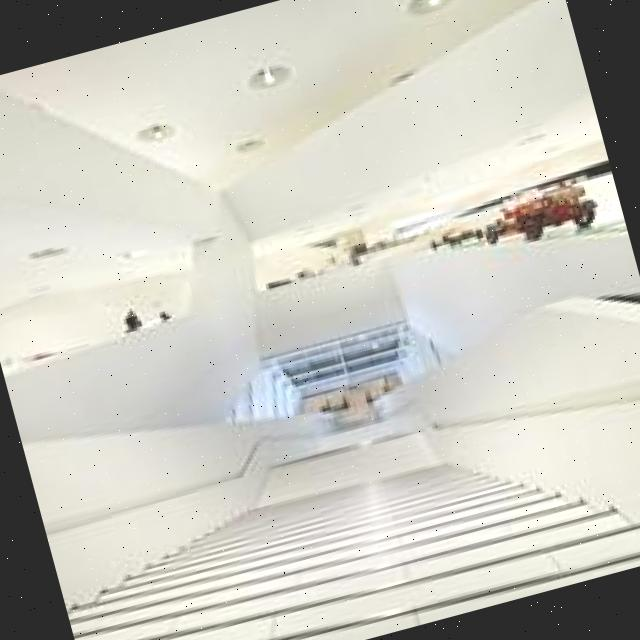stairs: (16, 261, 640, 640)
